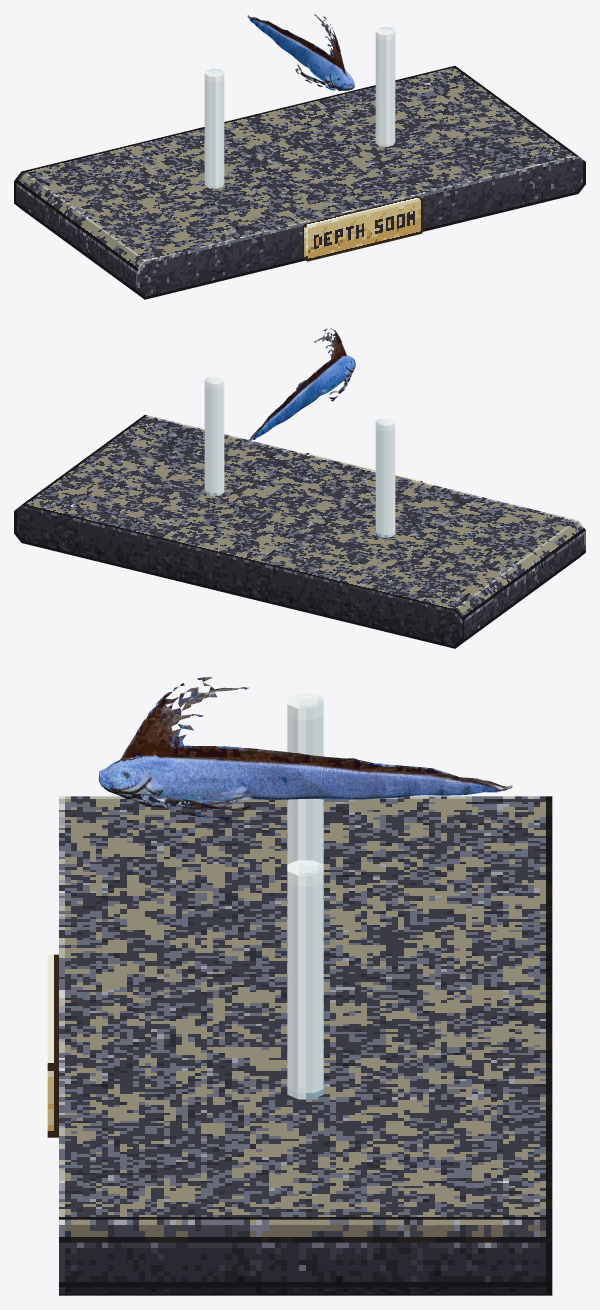
Rendered from oarfish.glb.
3 views of the same model, one above another, from view 1: azimuth 30°, elevation 25°; view 2: azimuth 150°, elevation 25°; view 3: azimuth 270°, elevation 25° (orthographic). The views are drawn at different scales.
Parts seen in each view (by area): view 1: base, plate, model_fish, rod2, rod; view 2: base, model_fish, rod2, rod; view 3: base, model_fish, rod2, rod, plate.
Boxes of the visible parts, x1,y1,x2,y2 form: base: (14, 66, 585, 299); plate: (303, 196, 423, 261); model_fish: (247, 14, 354, 90); rod2: (375, 27, 395, 146); rod: (204, 68, 224, 188); base: (14, 415, 585, 648); model_fish: (248, 328, 355, 441); rod2: (204, 376, 224, 495); rod: (375, 417, 395, 537); base: (59, 796, 552, 1295); model_fish: (98, 677, 512, 820); rod2: (287, 860, 323, 1099); rod: (287, 693, 323, 864); plate: (47, 954, 58, 1137).
Size of the model in its own units: 42 by 18.18 by 20.45.
Materials: 2 (2 with a texture image).
